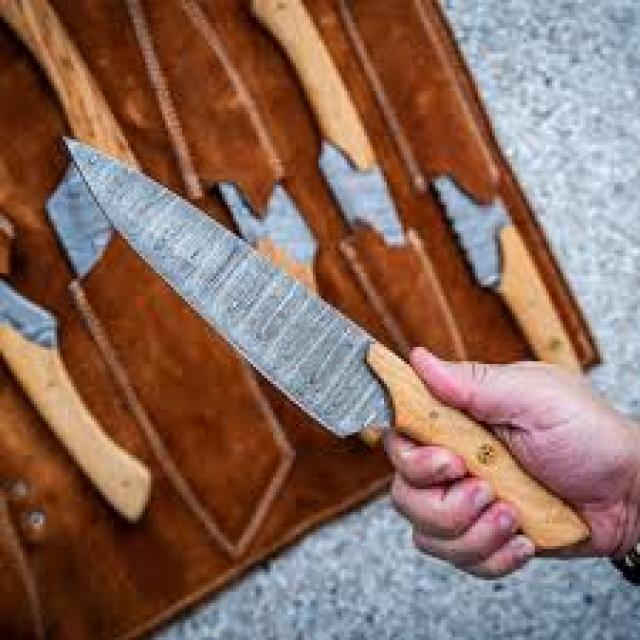knife: (60, 142, 401, 441)
